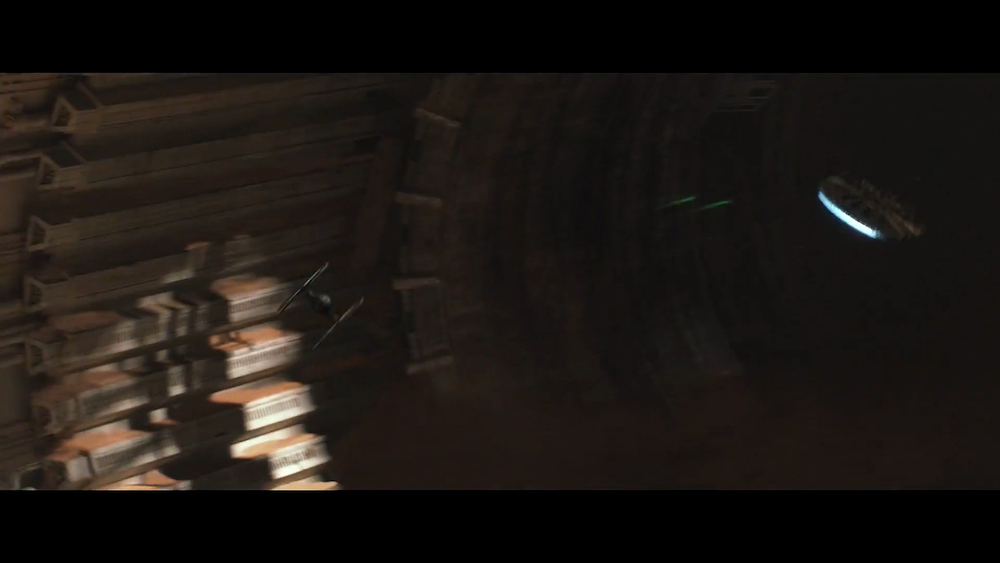Millennium Falcon: (815, 166, 932, 246)
Tie Fighter: (273, 257, 371, 355)
